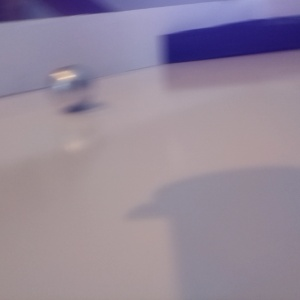alive_ball: (127, 24, 211, 111)
